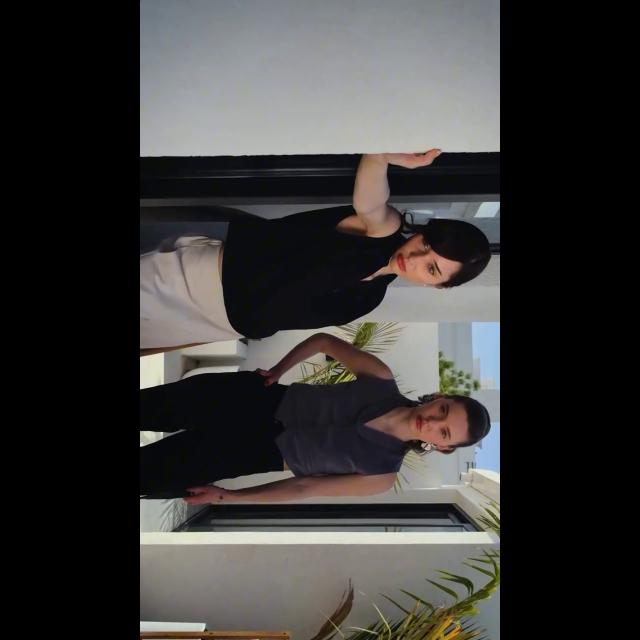bottom: (143, 386, 271, 478), (142, 244, 228, 340)
ear ring: (419, 443, 436, 453)
top: (226, 207, 394, 333), (272, 374, 410, 478)
